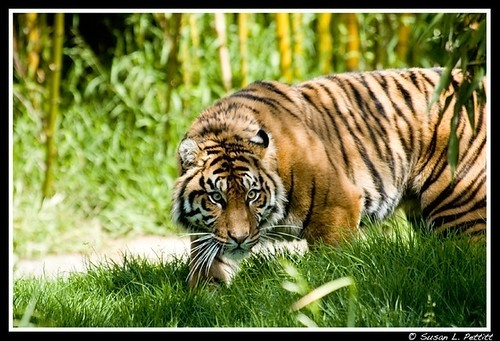tigre: (163, 60, 489, 292)
